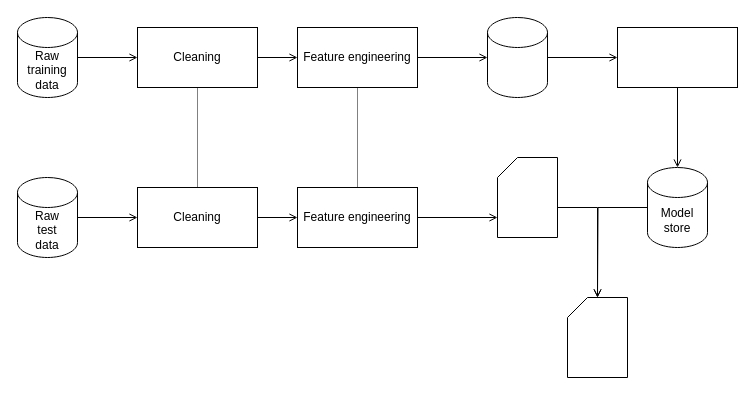
This 755x395 diagram has some shape labels left out. The centre of each missing label's shape, as x and y in pixels:
"Clean test data" belongs at (527,197).
"Clean training data" belongs at (517,57).
"Model training" belongs at (677,57).
"Predictions" belongs at (597,337).
